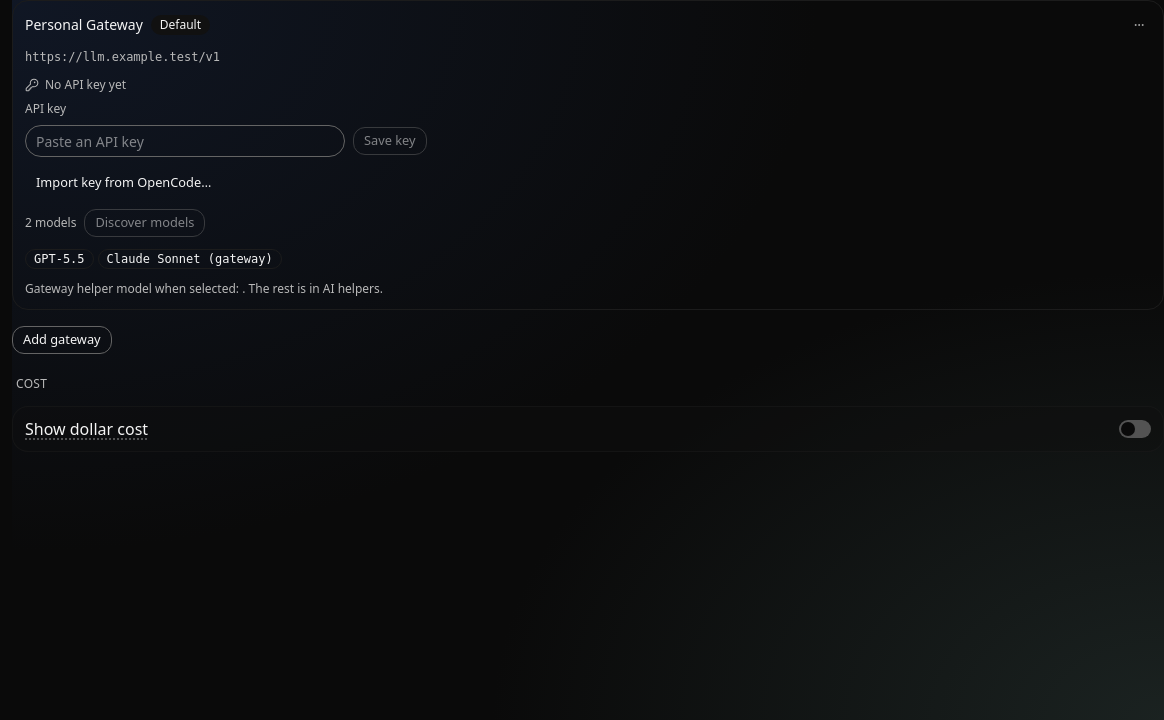
Test: GatewaysSettings › saves a key write-only, replaces it, and removes it
Check: the button "Save key" is disabled, box top-left (353, 127), bottom-right (427, 155)
In the password field labelled "API key": (185, 141) top-left (25, 125), bottom-right (345, 157), type "sk-secret-123"
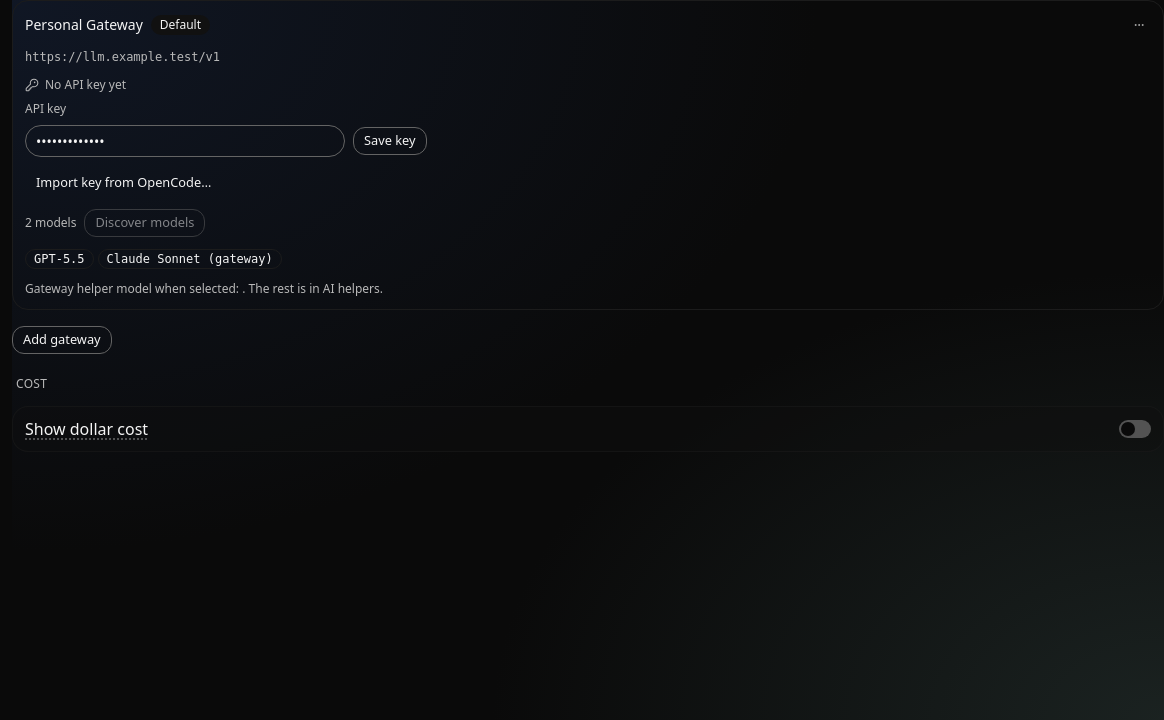
Click the button "Save key": (390, 141) top-left (353, 127), bottom-right (427, 155)
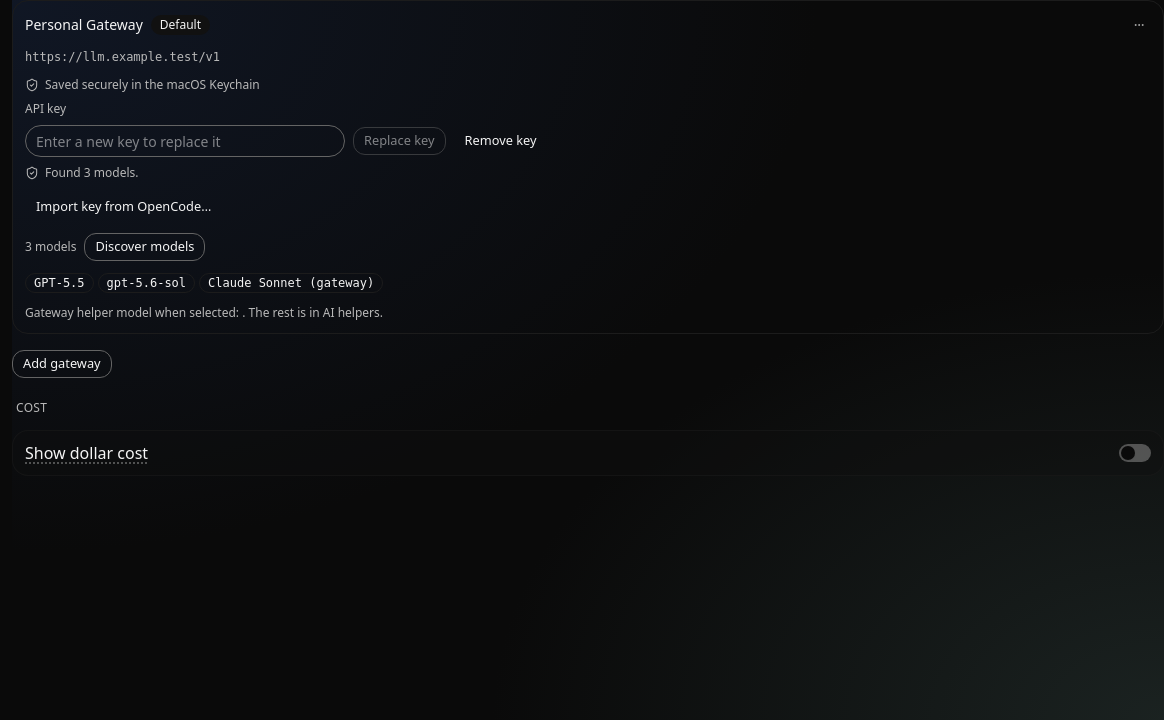
Check: the text "Saved securely in the macOS Keychain" is shown, box top-left (25, 76), bottom-right (260, 93)
Check: the text "Found 3 models." is shown, box top-left (25, 164), bottom-right (138, 181)
Check: the password field labelled "API key" is empty
In the password field labelled "API key": (185, 141) top-left (25, 125), bottom-right (345, 157), type "sk-newer"
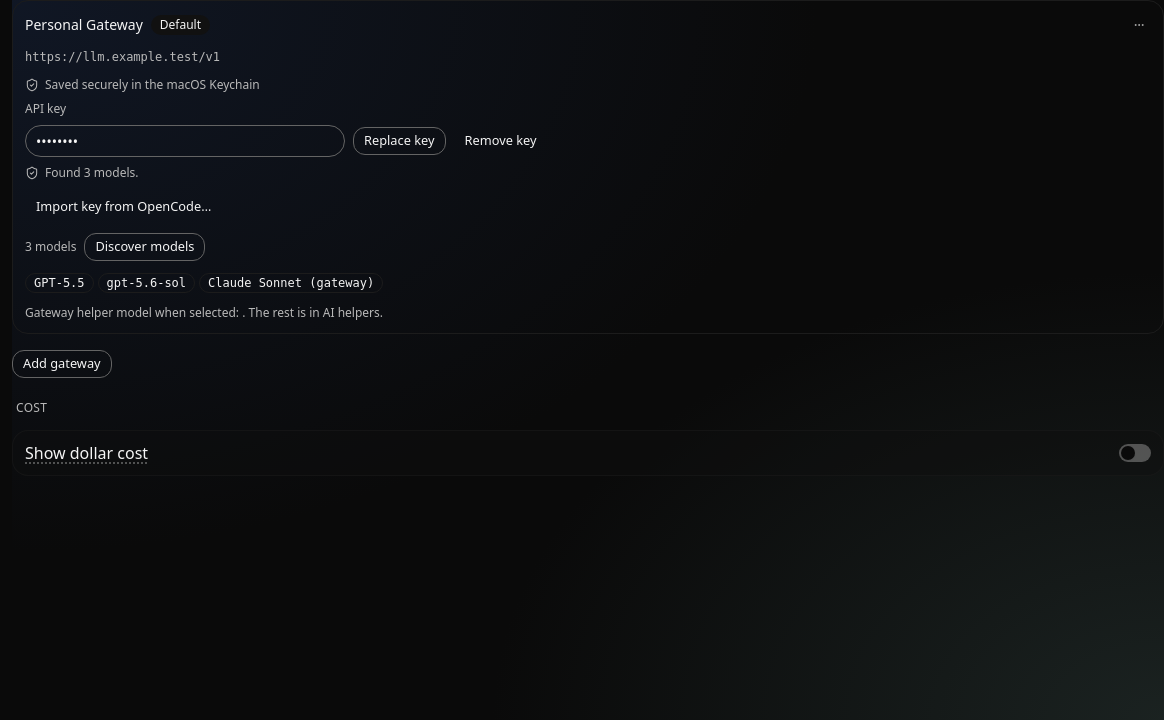
Check: the button "Replace key" is enabled
Click the button "Replace key": (399, 141) top-left (353, 127), bottom-right (446, 155)
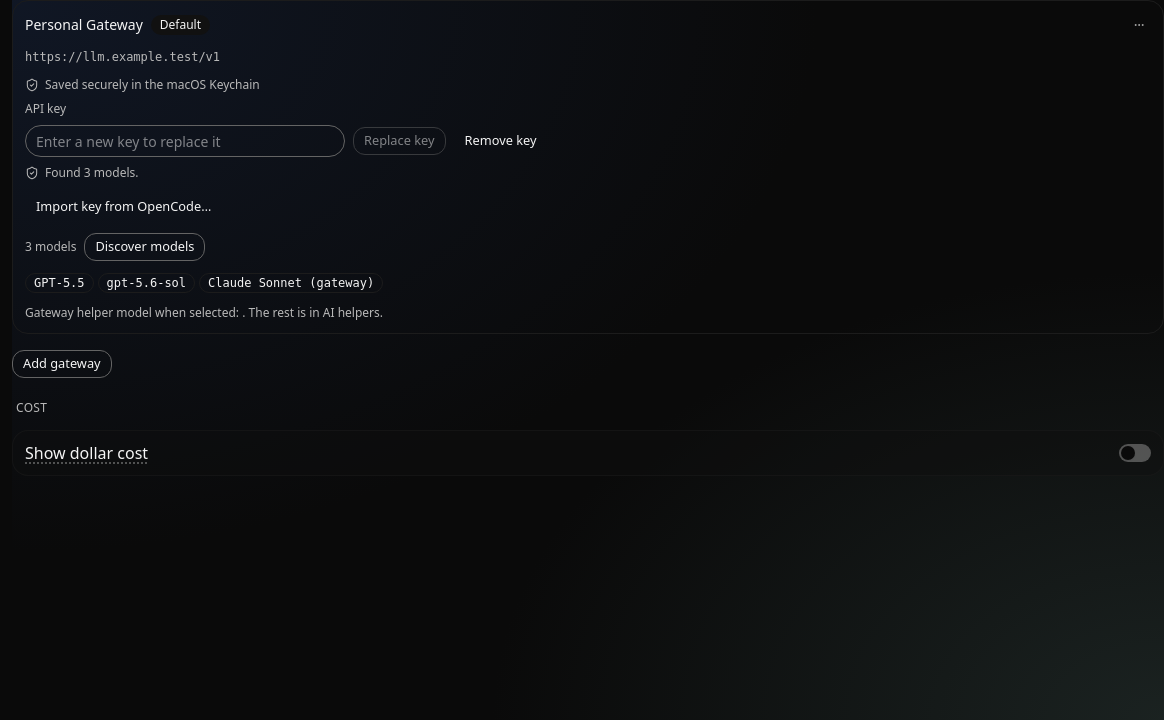
Click the button "Remove key": (500, 141) top-left (454, 127), bottom-right (548, 155)
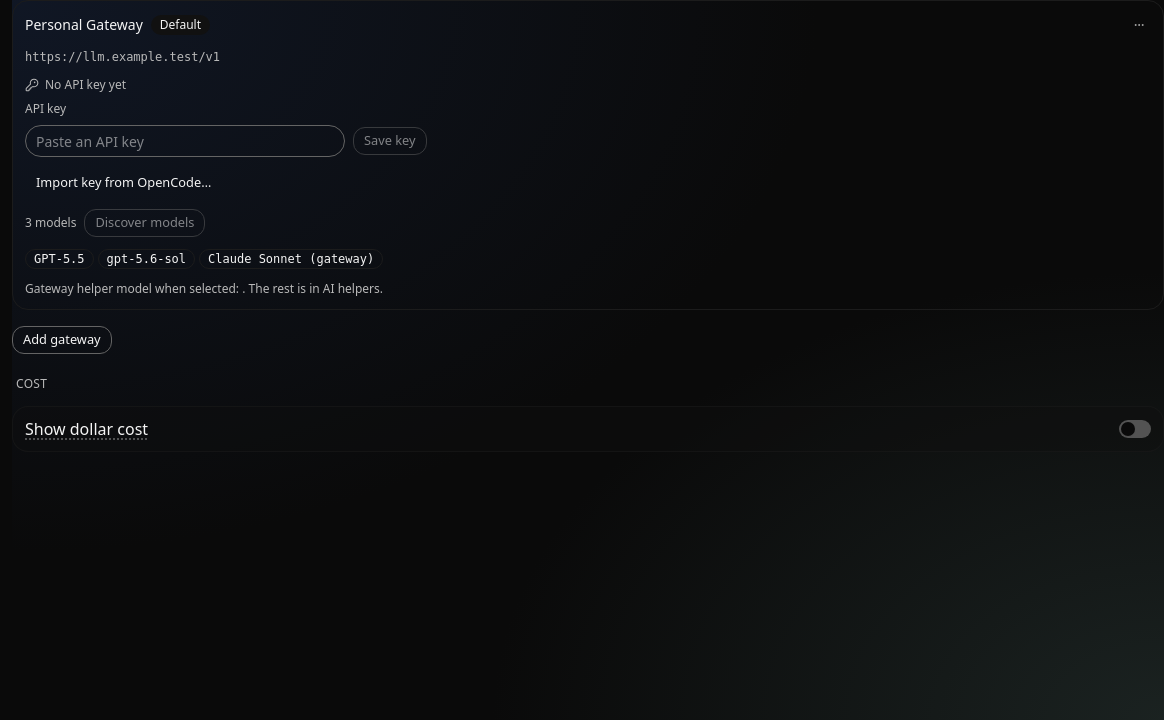
Check: the text "No API key yet" is shown, box top-left (25, 76), bottom-right (126, 93)
Check: the button "Remove key" is gone
Check: the button "Save key" is shown, box top-left (353, 127), bottom-right (427, 155)
